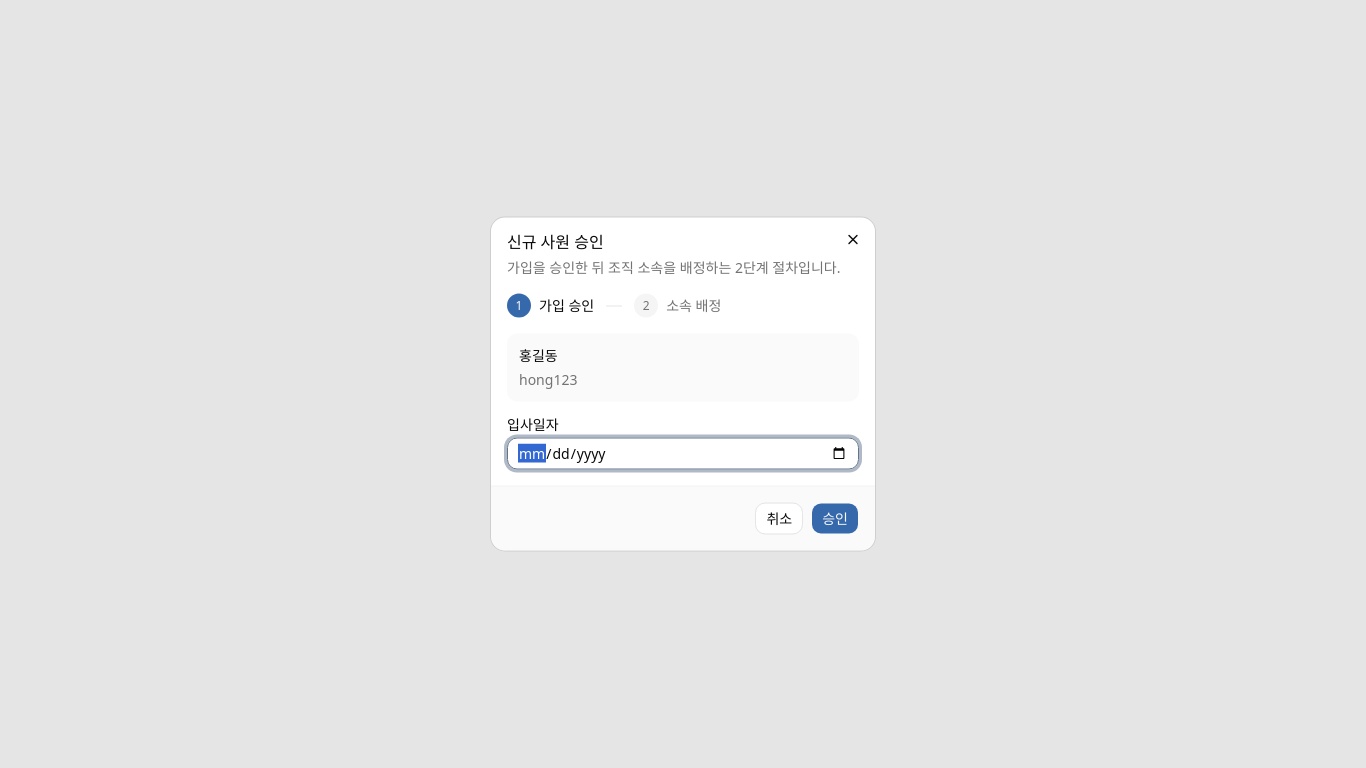
it: EmpApprovalWizardDialog › 1단계 제출 중에는 Esc로 닫을 수 없다
The width and height of the screenshot is (1366, 768).
Type "2024-03-05" into the date field labelled "입사일자" at (683, 454), box [507,438,859,470]
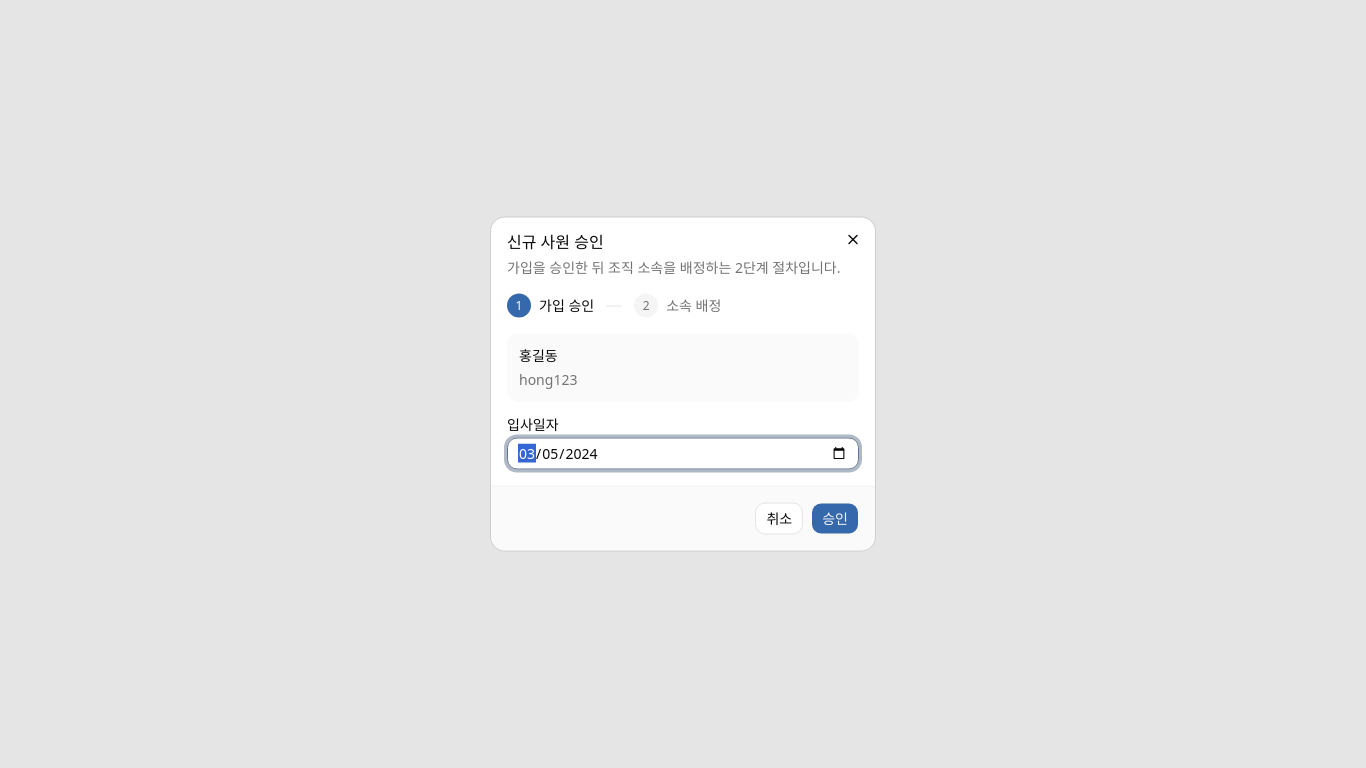
Click the button "승인" at (835, 518), box [811,502,859,534]
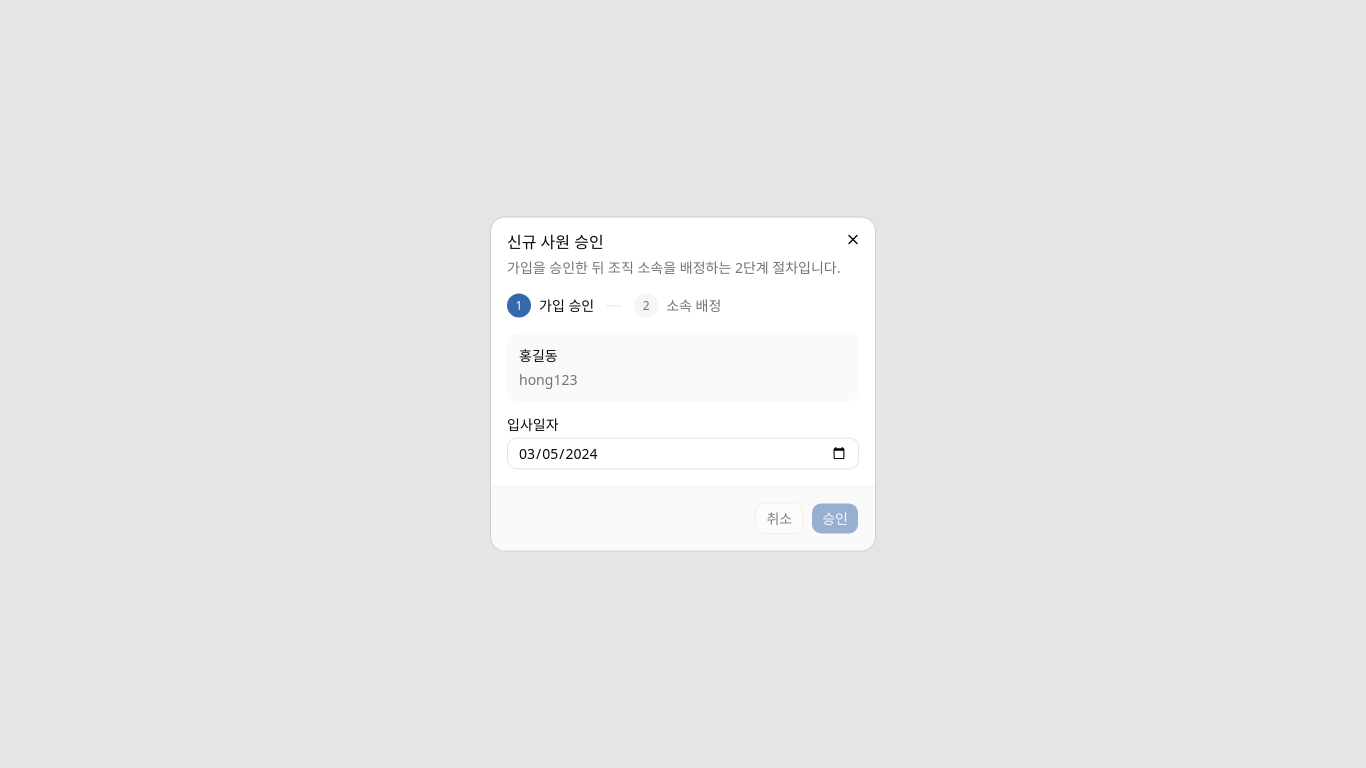
Result: the button "취소" is disabled at [756,502,803,534]
Press Escape
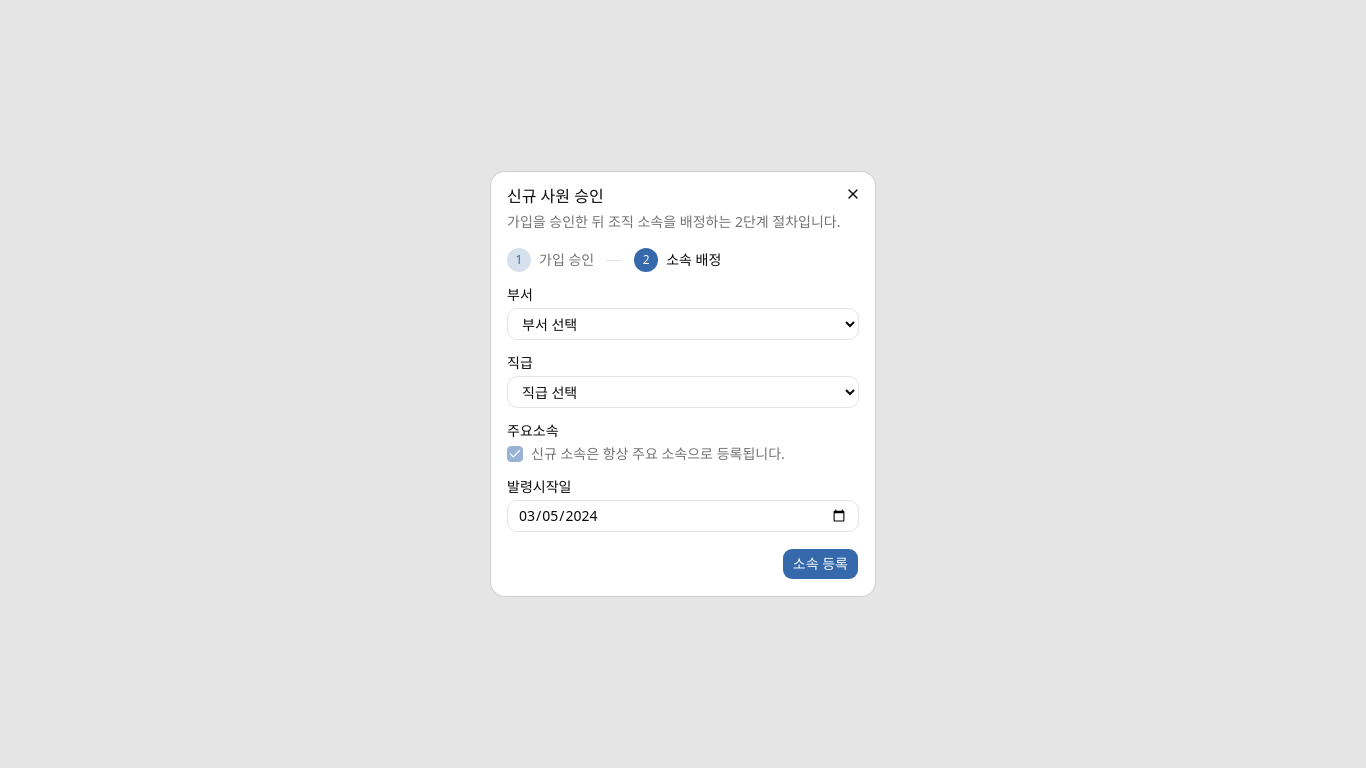
Result: the label labelled "입사일자" is gone
